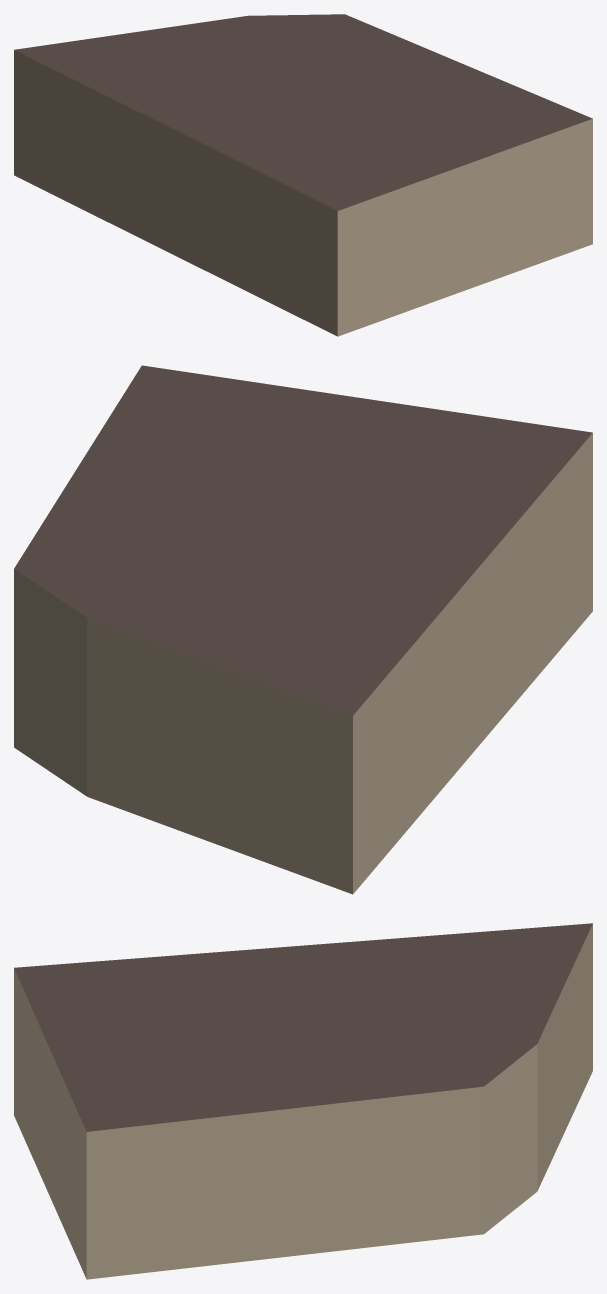
The picture shows the model from 3 angles, top to bottom: view 1: azimuth 30°, elevation 25°; view 2: azimuth 150°, elevation 25°; view 3: azimuth 270°, elevation 25°; orthographic projection. The views are drawn at different scales.
Visible parts, largest first — view 1: HP-w389702090; view 2: HP-w389702090; view 3: HP-w389702090.
Boxes of the visible parts, <box> form: HP-w389702090: <box>14,14,592,336</box>; HP-w389702090: <box>14,365,592,894</box>; HP-w389702090: <box>14,923,592,1279</box>.
Size of the model in its own units: 27.27 by 9 by 31.98.
